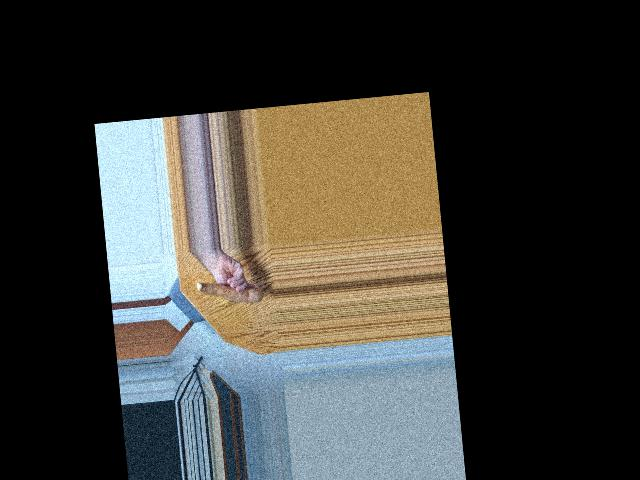sweet_potato: (194, 275, 261, 311)
